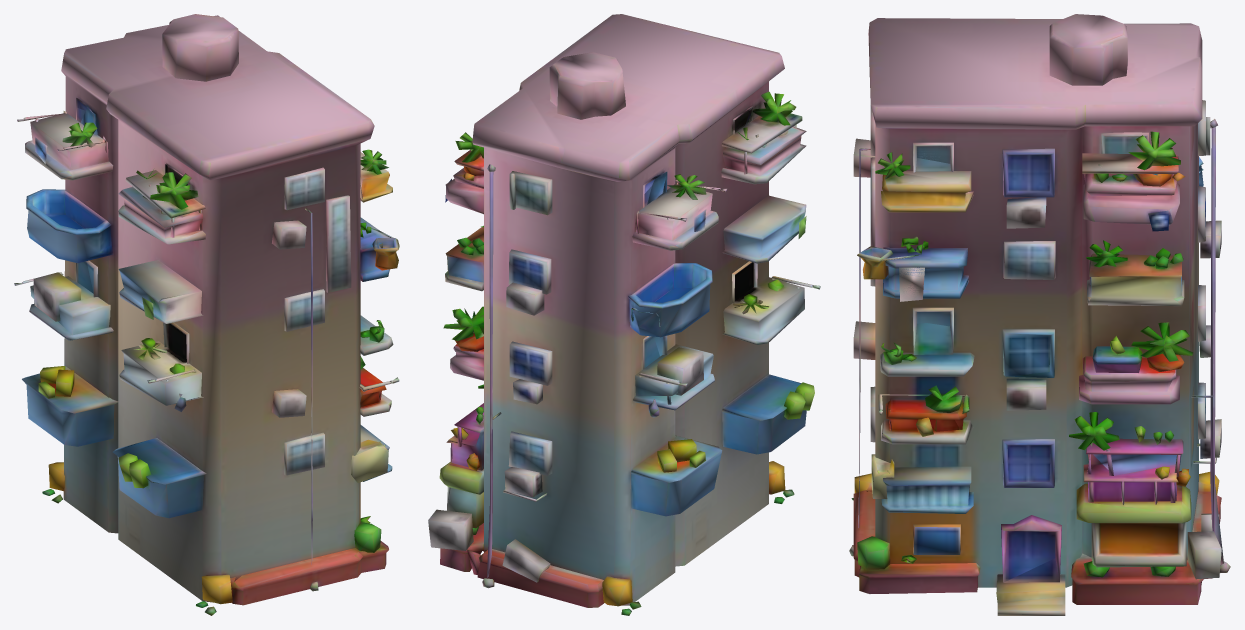
File: bld-apartments.glb
3 renders of one model, left to right at view 1: azimuth 30°, elevation 25°; view 2: azimuth 150°, elevation 25°; view 3: azimuth 270°, elevation 25°, orthographic. The views are drawn at different scales.
Visible parts, largest first — view 1: tripo_node_a8e1b124-6d70-4af8-a4a1-ecf6e8cc191c; view 2: tripo_node_a8e1b124-6d70-4af8-a4a1-ecf6e8cc191c; view 3: tripo_node_a8e1b124-6d70-4af8-a4a1-ecf6e8cc191c.
Part boxes in pixels (x1=…): tripo_node_a8e1b124-6d70-4af8-a4a1-ecf6e8cc191c: x1=14, y1=14, x2=399, y2=615; tripo_node_a8e1b124-6d70-4af8-a4a1-ecf6e8cc191c: x1=428, y1=14, x2=820, y2=615; tripo_node_a8e1b124-6d70-4af8-a4a1-ecf6e8cc191c: x1=849, y1=14, x2=1230, y2=615.
Size of the model in its own units: 0.5762 by 0.998 by 0.6582.
Materials: 1 (1 with a texture image).
